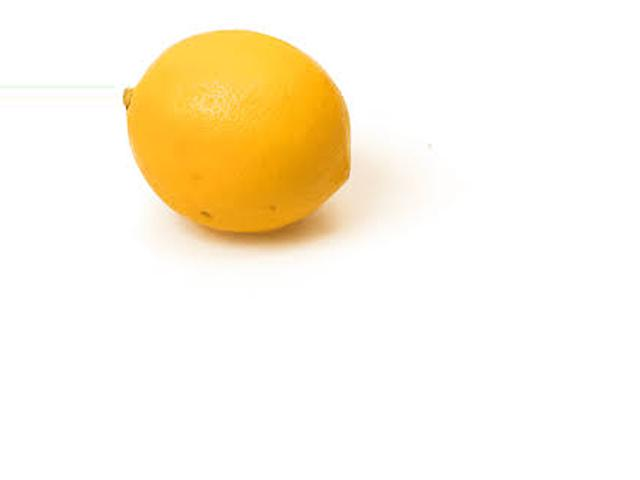lemon: (120, 24, 378, 262)
